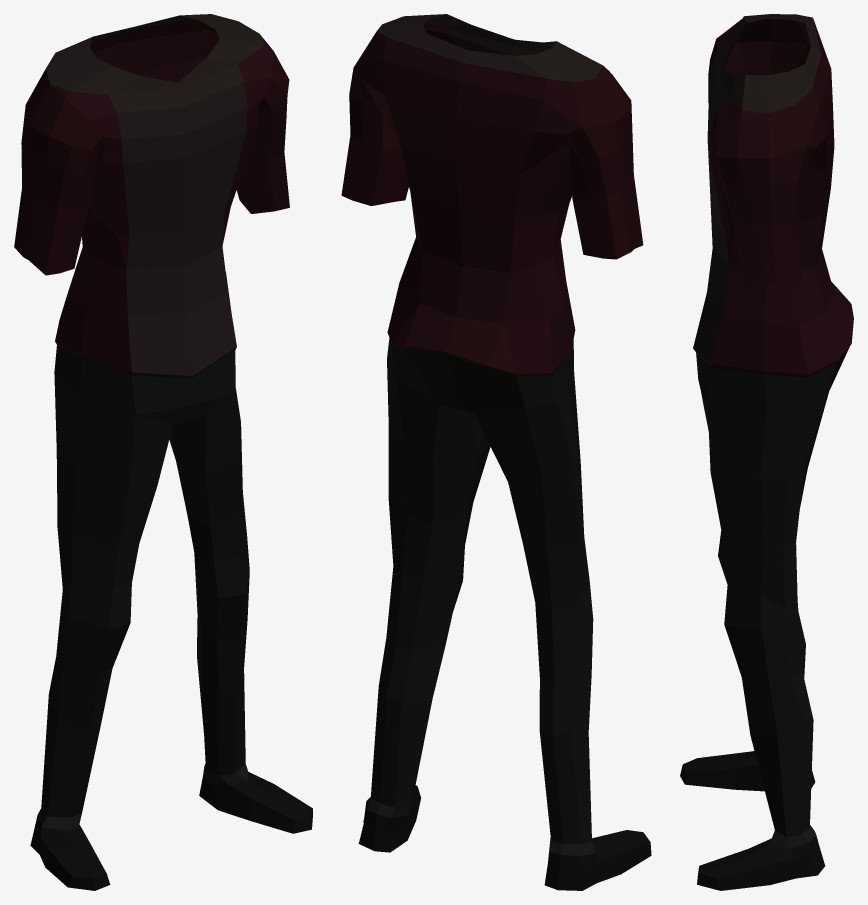
Rendered from Male_Shirt_cloth.obj.
3 views of the same model, side by side, from view 1: azimuth 30°, elevation 25°; view 2: azimuth 150°, elevation 25°; view 3: azimuth 270°, elevation 25° (orthographic). The views are drawn at different scales.
Bounding box in the file's own units: 1.43 × 4.05 × 0.814.
